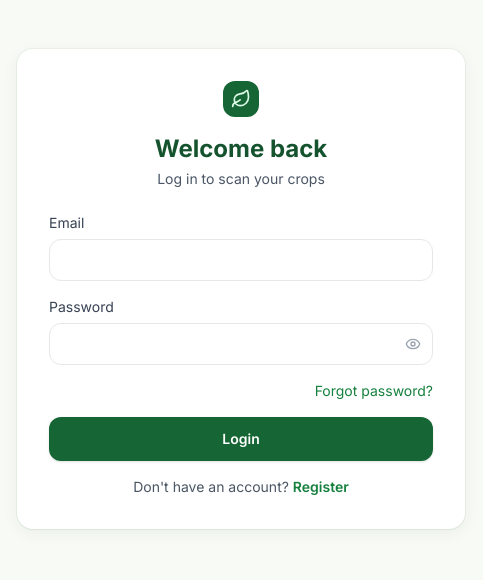
Scenario: Login page ↔ API › shows the translated backend error on wrong credentials
In the field labelled "Email": (241, 260) [49,239,433,281], type "ram@example.com"
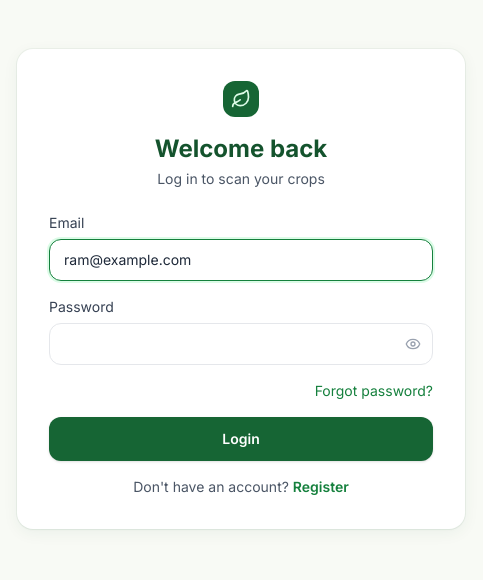
In the password field labelled "Password": (241, 344) [49,323,433,365], type "wrong123"
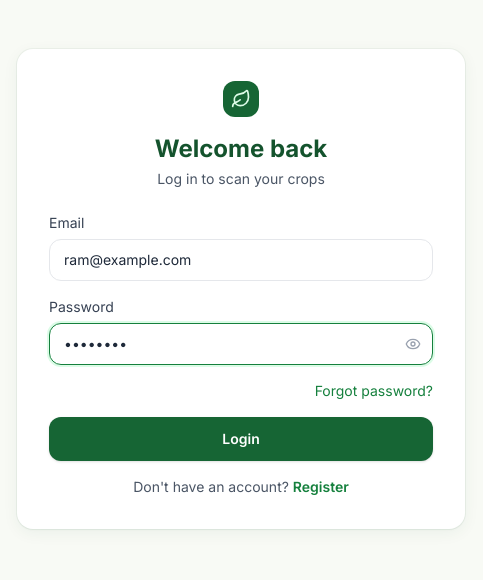
Click the button "Login": (241, 439) [49,417,433,461]
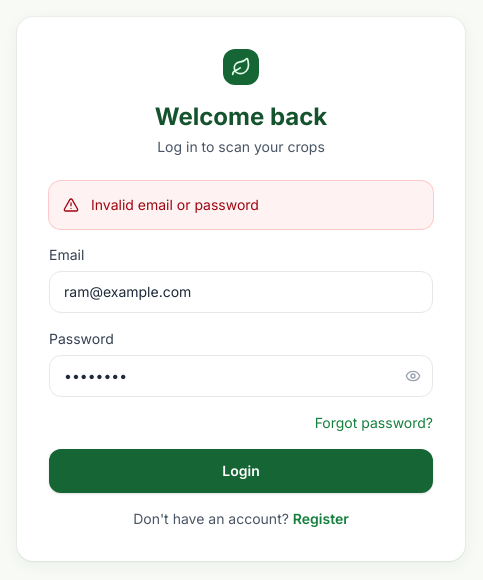
Expected: the message reads "Invalid email or password", [91,196,259,213]
